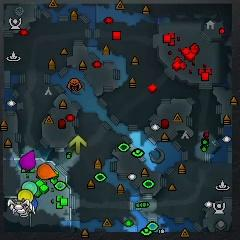p1: (33, 198, 38, 211)
p2: (22, 181, 37, 195)
p3: (20, 149, 36, 170)
p4: (18, 190, 34, 203)
p5: (37, 163, 57, 179)
x2: (69, 136, 87, 154)
